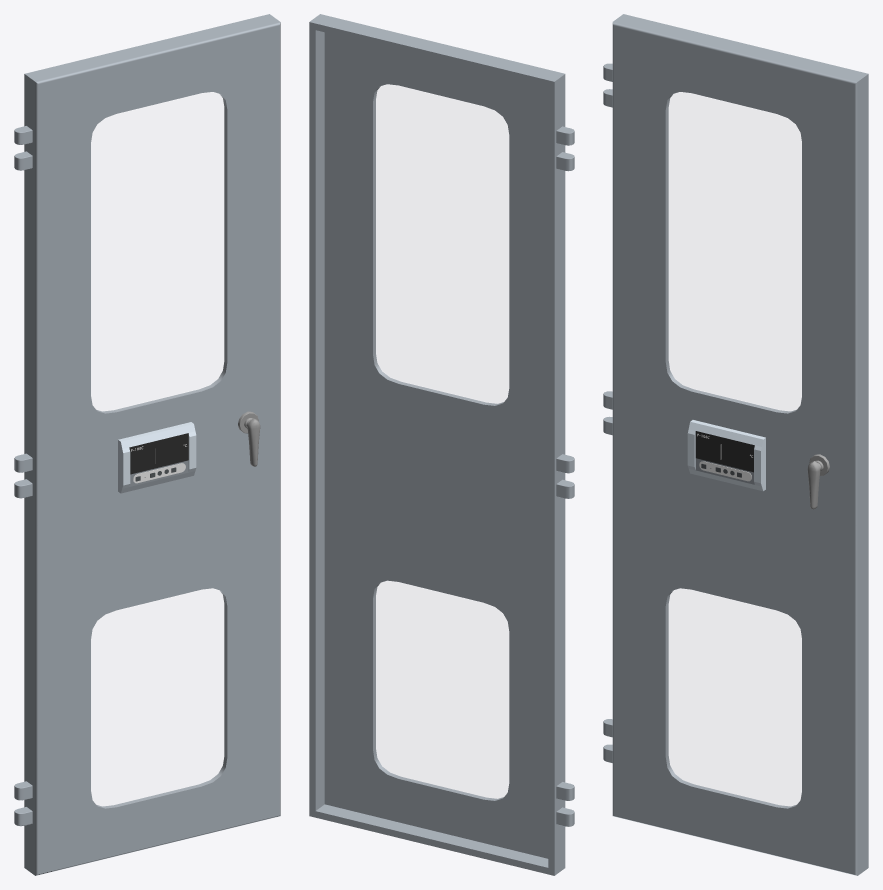
File: TR_FRONT_DOOR.fbx
3 renders of one model, left to right at view 1: azimuth 30°, elevation 25°; view 2: azimuth 150°, elevation 25°; view 3: azimuth 330°, elevation 25°, orthographic.
Visible parts, largest first — view 1: TR_FRONT_DOOR; view 2: TR_FRONT_DOOR; view 3: TR_FRONT_DOOR.
Boxes of the visible parts, x1=… form: TR_FRONT_DOOR: x1=14, y1=14, x2=280, y2=875; TR_FRONT_DOOR: x1=309, y1=14, x2=574, y2=875; TR_FRONT_DOOR: x1=603, y1=14, x2=868, y2=875.
Size of the model in its own units: 0.6334 by 1.85 by 0.0934.
2 materials, 1 textured.
